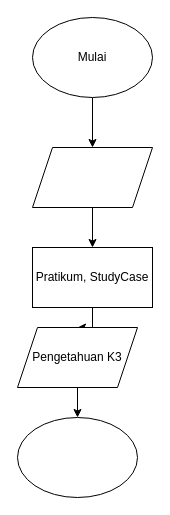
Image size: 170x515. Some labels were removed from this diagram. Each missing label, with the centre of its shape:
"Pengenalan K3" goes at pixel 92 177.
"Selesai" goes at pixel 77 457.
